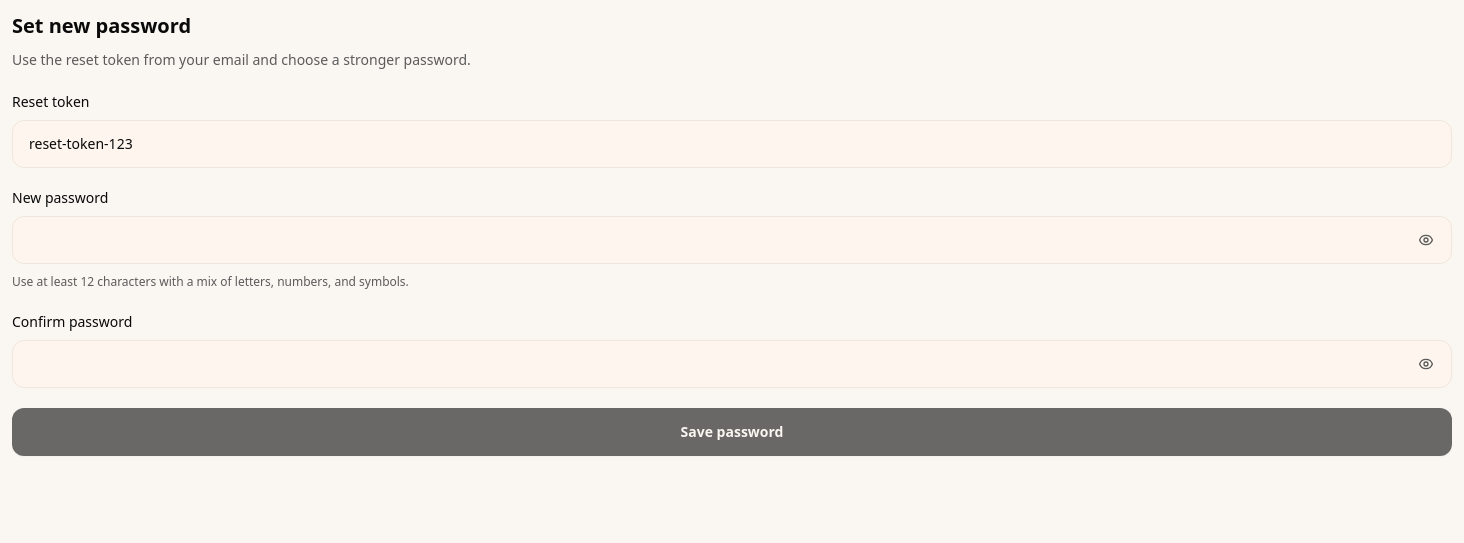
Test: ResetPasswordForm › submits the new password and routes to login on success
Type "StrongerPass!234" into the password field labelled "New password" at (732, 240), box [12,216,1452,264]
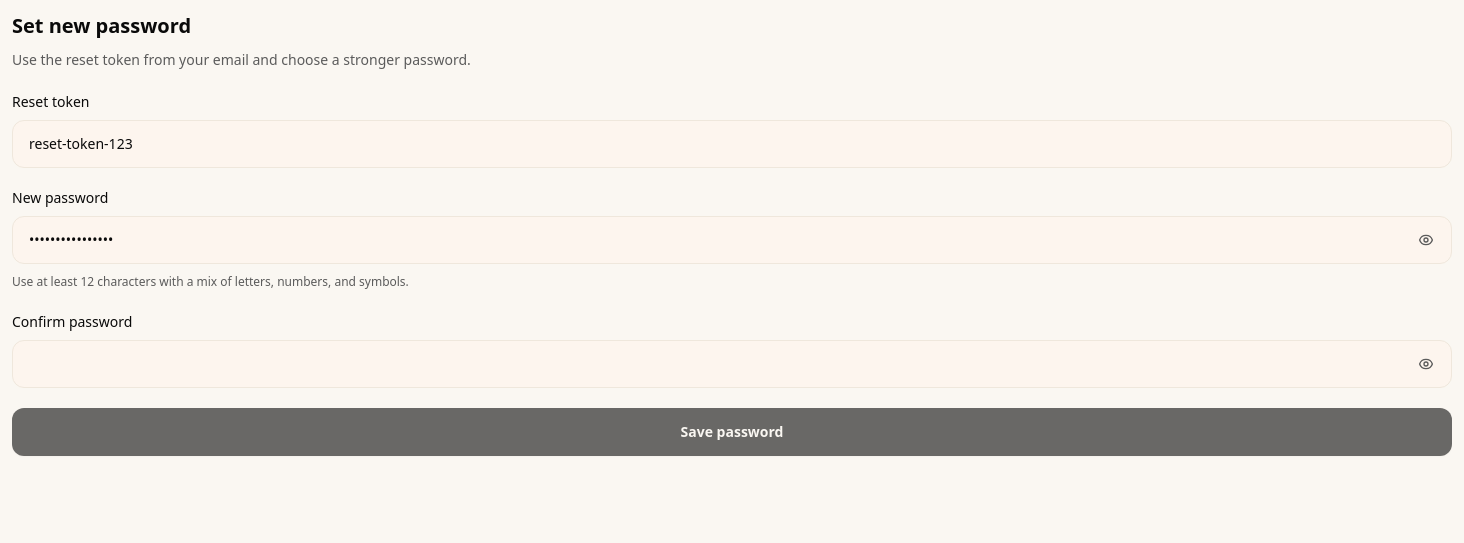
Type "StrongerPass!234" into the password field labelled "Confirm password" at (732, 364), box [12,340,1452,388]
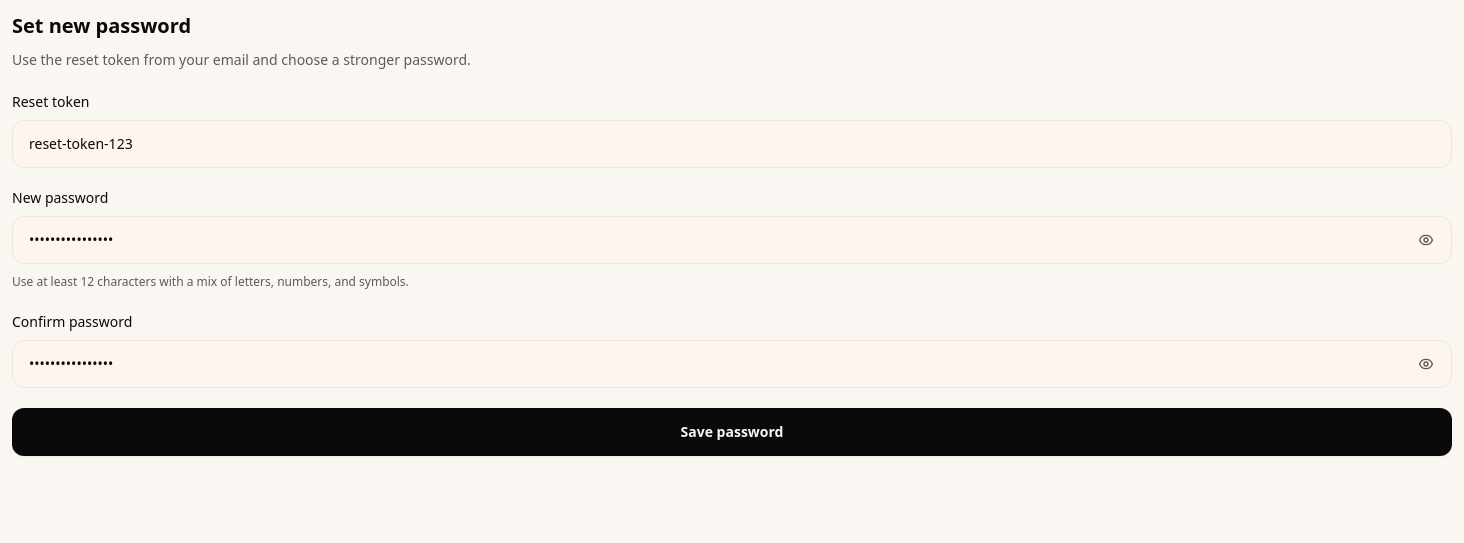
Click the button "Save password" at (732, 432), box [12,408,1452,456]
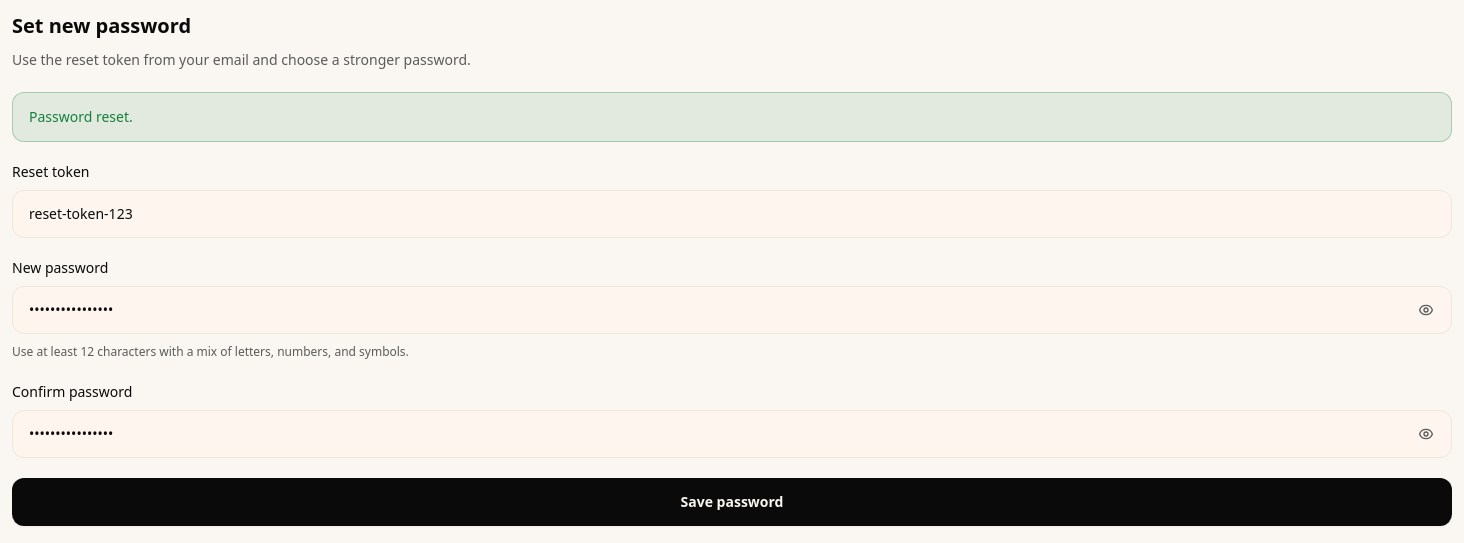
Result: the text "Password reset." is shown at [12,92,1452,142]
